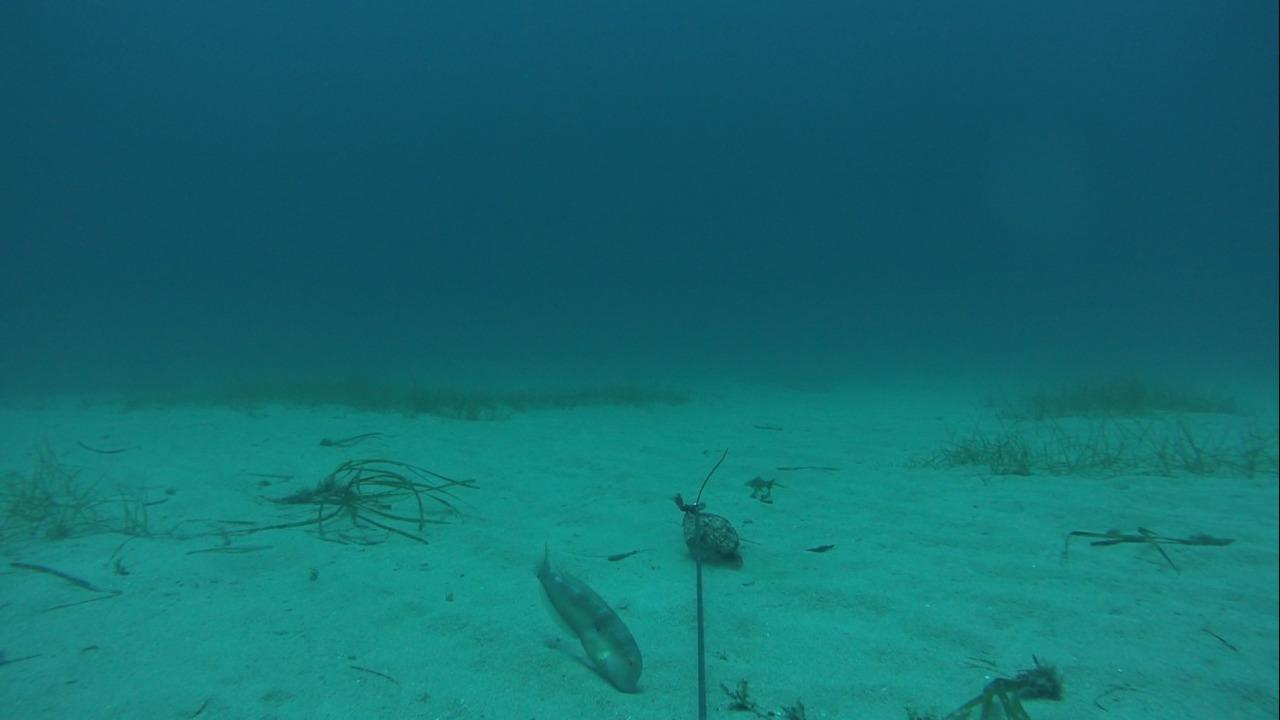raor: (523, 540, 647, 695)
